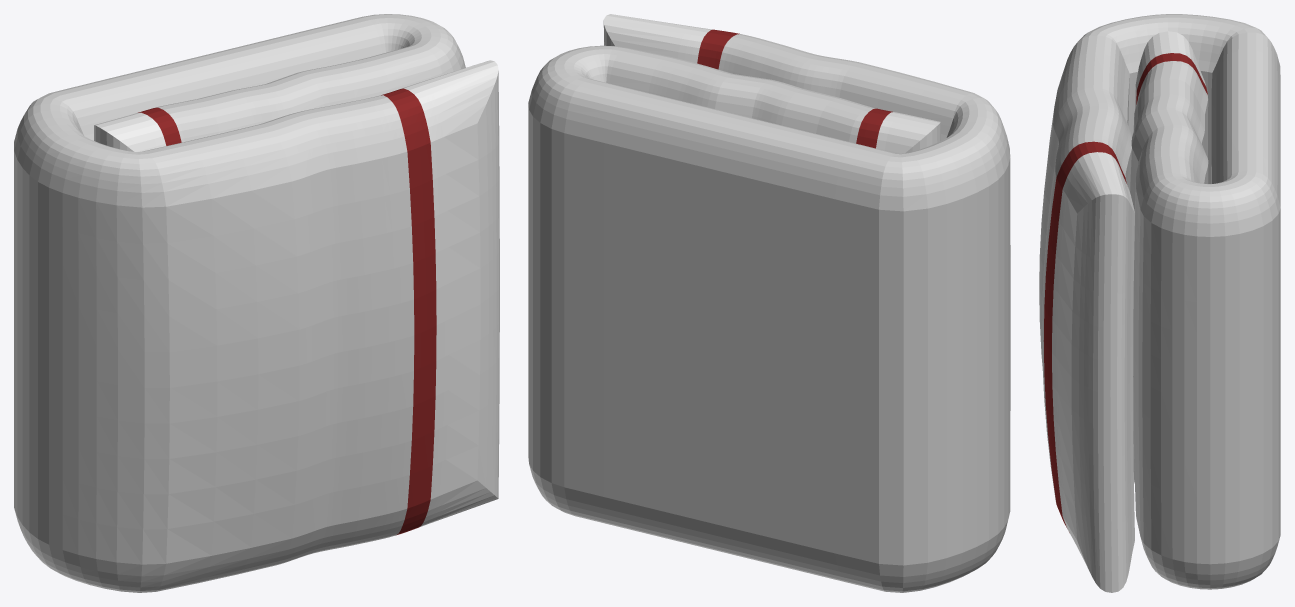
3 renders of one model, left to right at view 1: azimuth 30°, elevation 25°; view 2: azimuth 150°, elevation 25°; view 3: azimuth 270°, elevation 25°, orthographic. The views are drawn at different scales.
Visible parts, largest first — view 1: towel; view 2: towel; view 3: towel.
Part boxes in pixels (x1=…): towel: x1=14, y1=14, x2=499, y2=592; towel: x1=528, y1=14, x2=1010, y2=592; towel: x1=1039, y1=14, x2=1280, y2=592.
Bounding box in the file's own units: 102 × 96.28 × 52.86.
